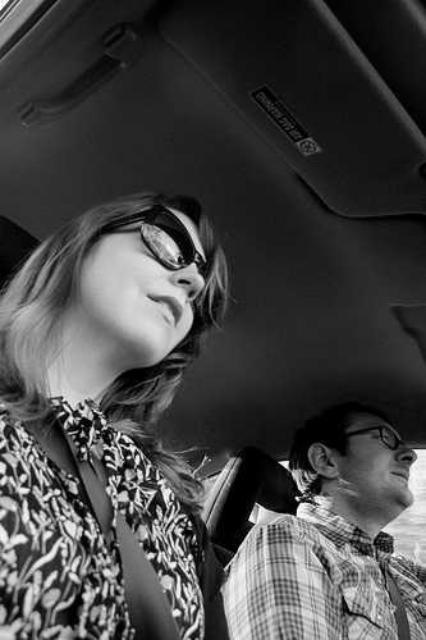Seatbelt: (20, 404, 184, 640)
